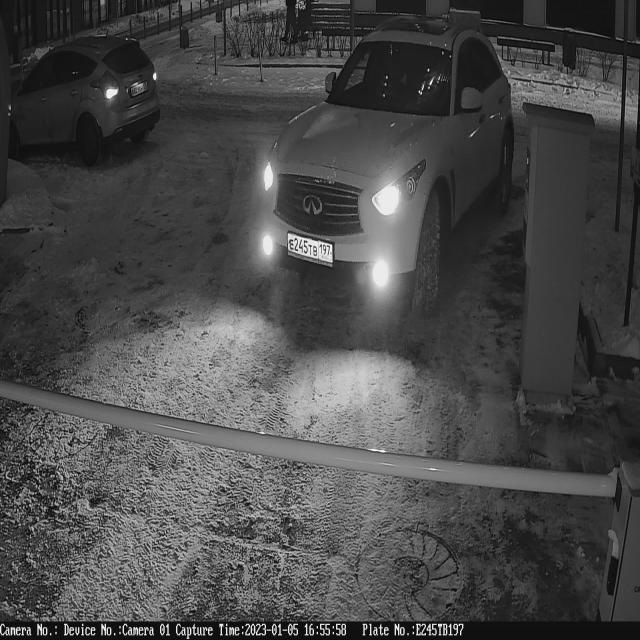car-plate-numbers: (285, 230, 336, 270)
